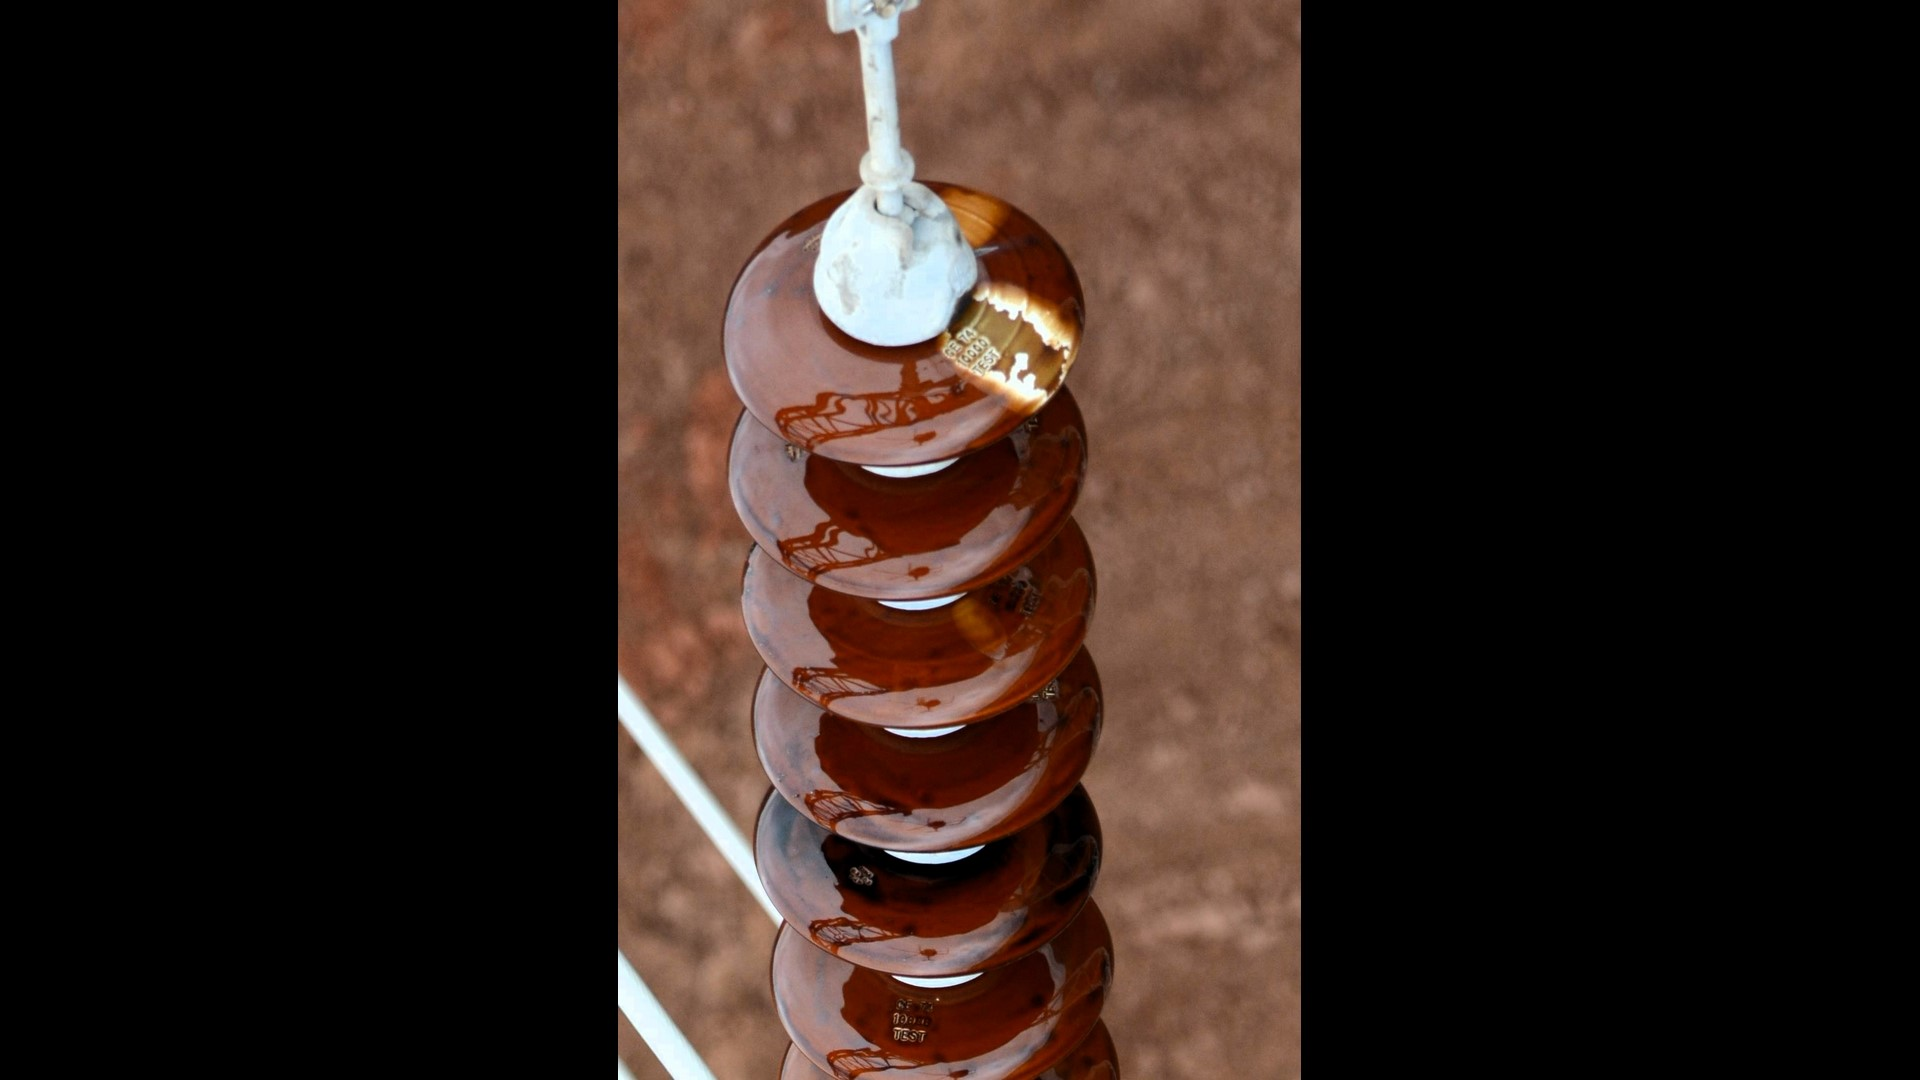Insulator flashover: (709, 171, 1091, 481)
